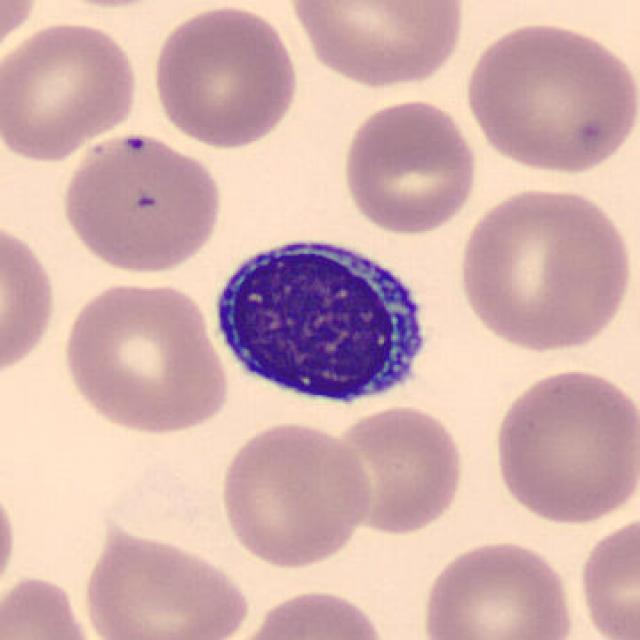Lymphocyte: (201, 224, 439, 416)
RBC: (454, 182, 636, 354), (459, 16, 638, 178), (57, 277, 231, 437), (215, 418, 377, 571), (57, 129, 226, 275), (489, 363, 638, 527), (148, 2, 302, 152), (0, 16, 142, 166), (79, 522, 252, 640), (338, 95, 482, 236), (324, 402, 469, 538), (283, 0, 471, 90), (418, 536, 578, 640), (0, 213, 60, 386), (226, 583, 393, 640), (574, 509, 638, 640), (0, 571, 103, 640), (0, 470, 21, 606), (0, 0, 43, 62)
